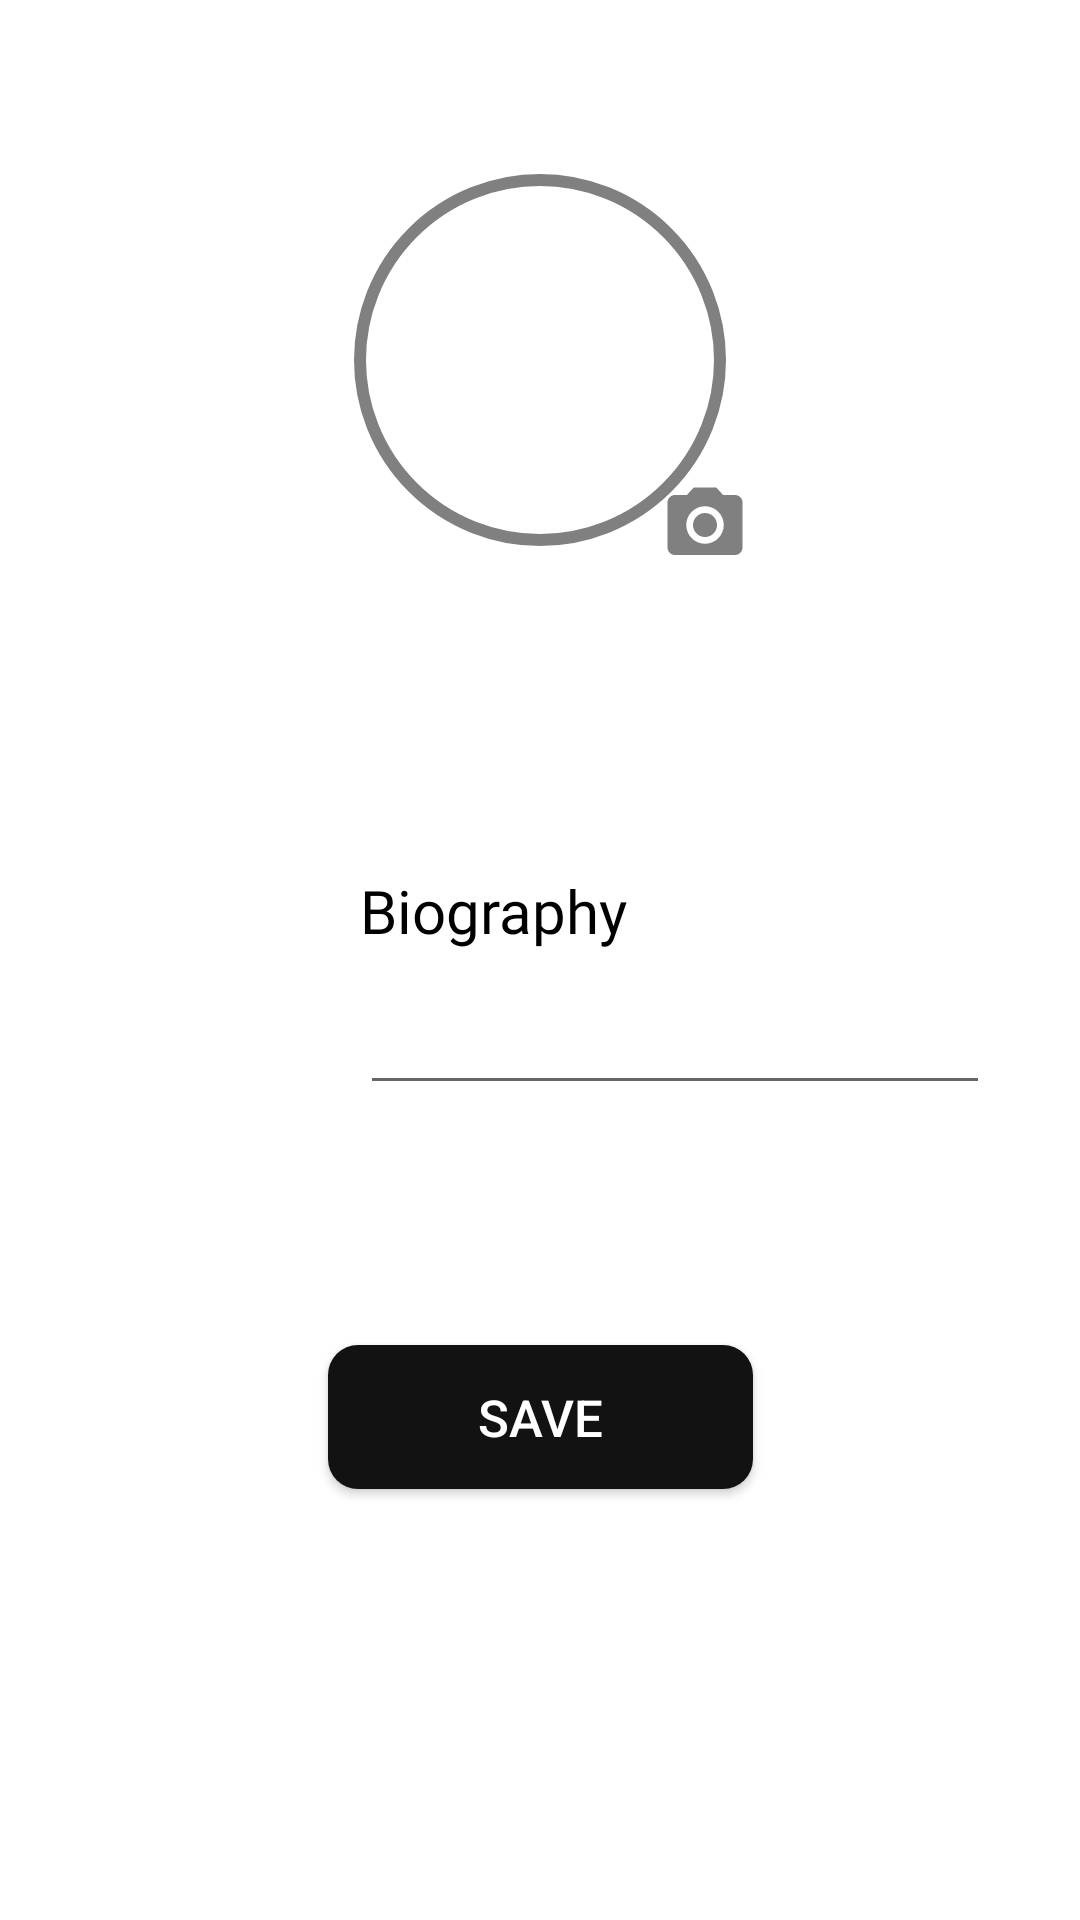

Icon bounding boxes for this 1080px x 1920px phone screenshot, format (x1, y1, x2, y2):
camera: (667, 487, 743, 555)
